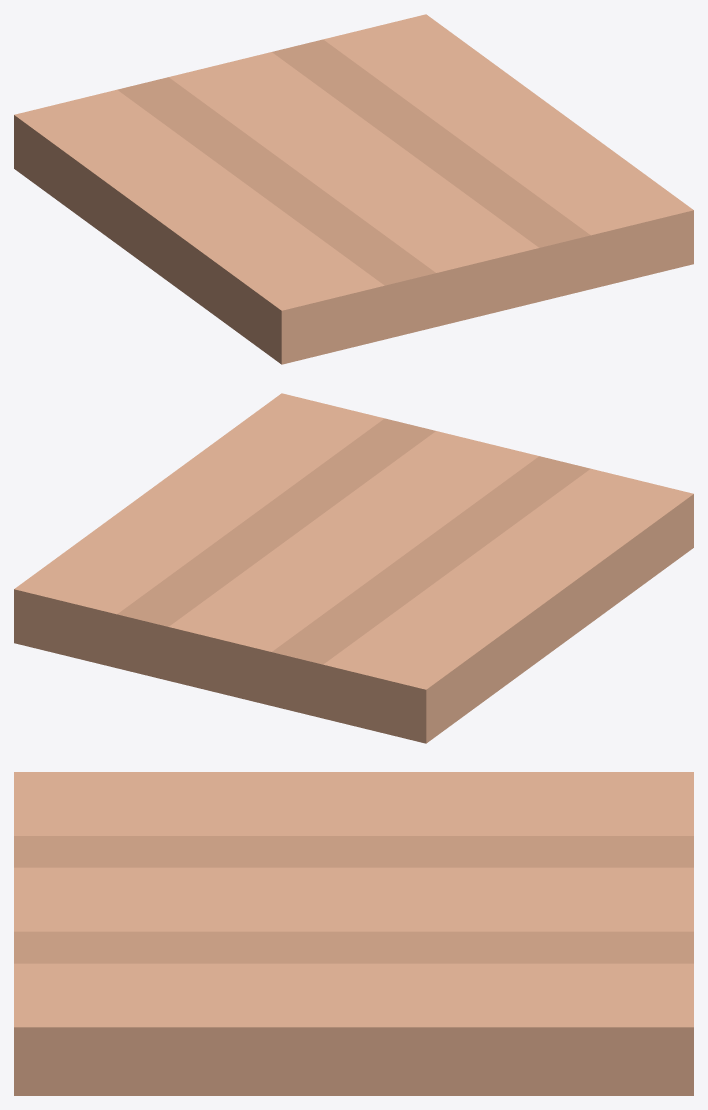
The model's file is DockBoardCombined.fbx.
3 renders of one model, top to bottom at view 1: azimuth 30°, elevation 25°; view 2: azimuth 150°, elevation 25°; view 3: azimuth 270°, elevation 25°, orthographic. The views are drawn at different scales.
Parts seen in each view (by area): view 1: polySurface4; view 2: polySurface4; view 3: polySurface4.
Part boxes in pixels (x1=…): polySurface4: x1=14, y1=14, x2=693, y2=364; polySurface4: x1=14, y1=393, x2=693, y2=743; polySurface4: x1=14, y1=772, x2=693, y2=1095.
Bounding box in the file's own units: 20 × 2.5 × 22.5.
